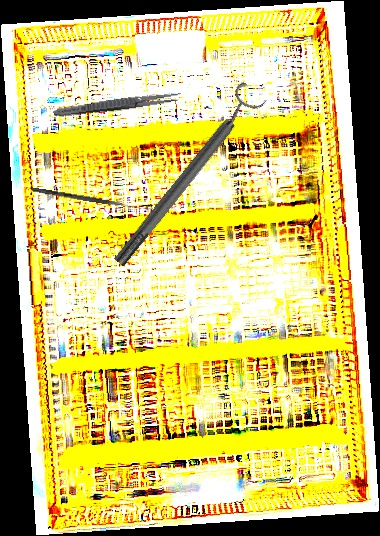Dressing Forceps: (52, 89, 183, 120)
Fixation Ring: (103, 80, 270, 273)
Hook Surgical: (31, 187, 142, 210)
